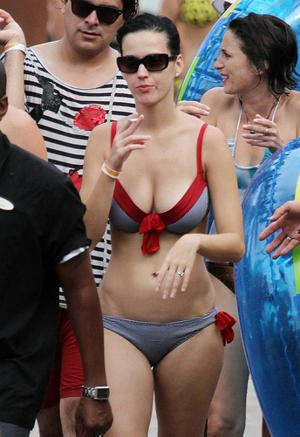person: (78, 9, 248, 437)
